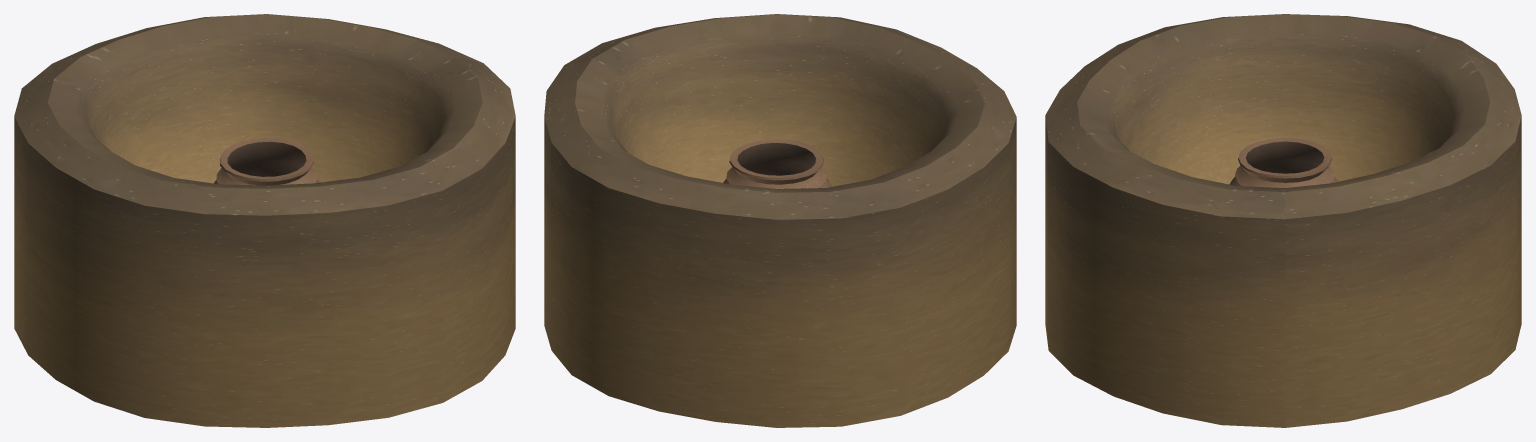
File: store_pit_open.glb
The picture shows the model from 3 angles, left to right: view 1: azimuth 30°, elevation 25°; view 2: azimuth 150°, elevation 25°; view 3: azimuth 270°, elevation 25°; orthographic projection.
Parts seen in each view (by area): view 1: STORE_PIT_OPEN; view 2: STORE_PIT_OPEN; view 3: STORE_PIT_OPEN.
Boxes of the visible parts, left/top/right/bottom form: STORE_PIT_OPEN: left=14, top=14, right=515, bottom=427; STORE_PIT_OPEN: left=544, top=14, right=1016, bottom=427; STORE_PIT_OPEN: left=1045, top=14, right=1521, bottom=427.
Size of the model in its own units: 1.98 by 0.9981 by 1.94.
Materials: 2 (2 with a texture image).
